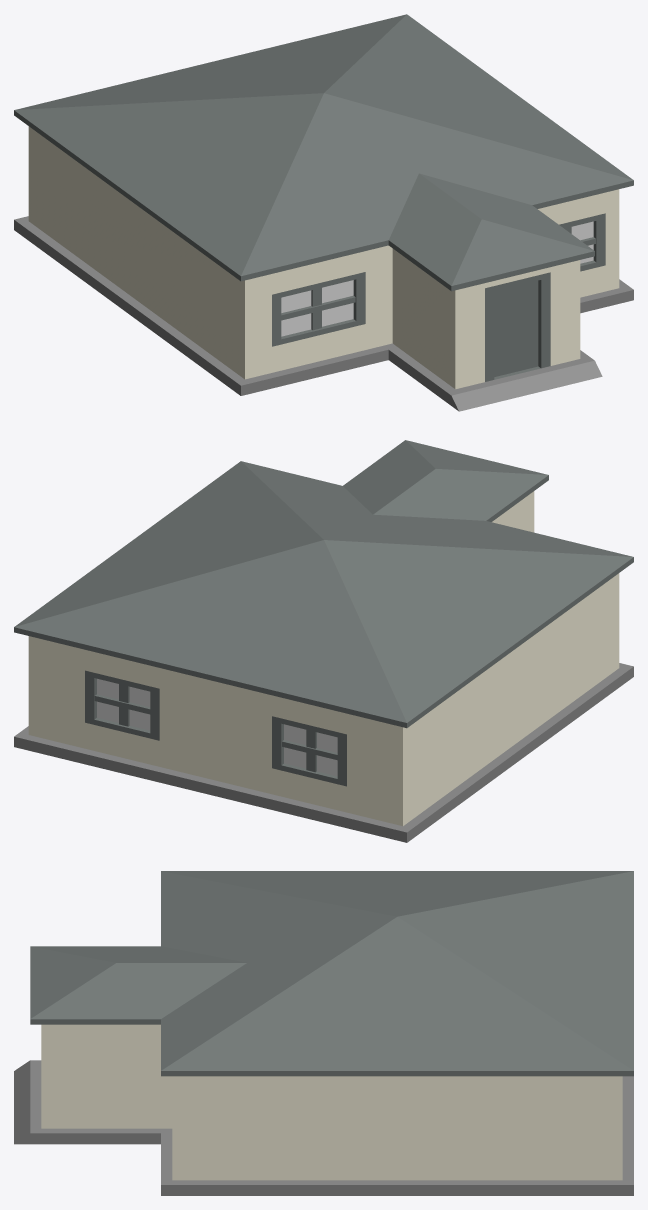
File: House #10.fbx
3 views of the same model, one above another, from view 1: azimuth 30°, elevation 25°; view 2: azimuth 150°, elevation 25°; view 3: azimuth 270°, elevation 25° (orthographic). The views are drawn at different scales.
Visible parts, largest first — view 1: building_001; view 2: building_001; view 3: building_001.
Boxes of the visible parts, <box> form: building_001: <box>14,14,633,411</box>; building_001: <box>14,440,633,842</box>; building_001: <box>14,871,633,1195</box>.
Size of the model in its own units: 420 by 176 by 550.
